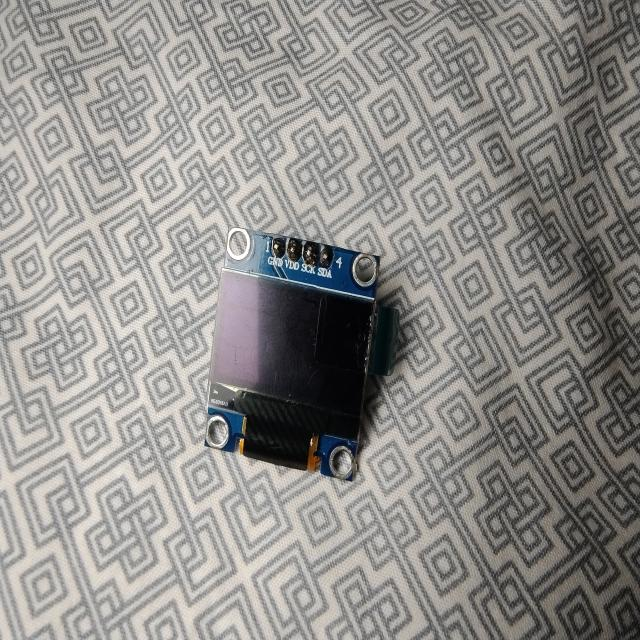oled: (203, 216, 402, 504)
